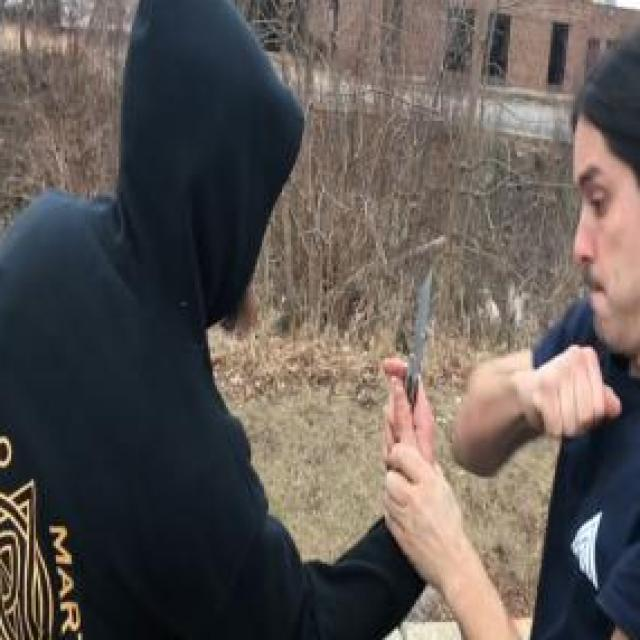knife: (378, 253, 441, 473)
